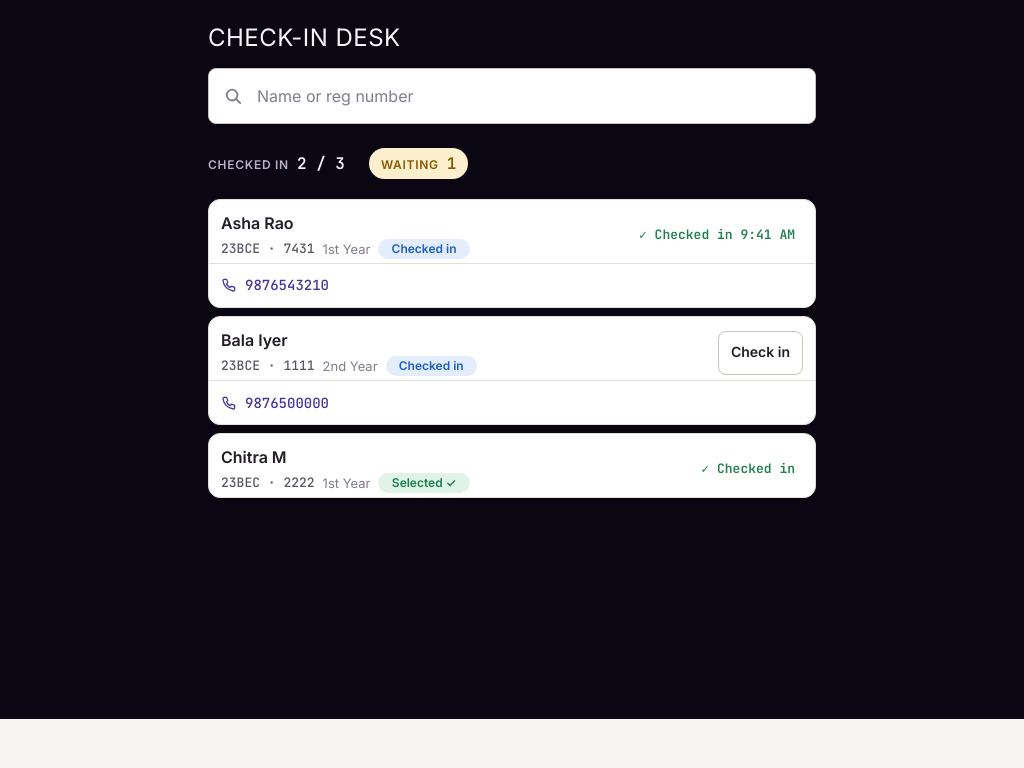
Test: Desk list + counts › search narrows by name substring or regNo prefix
Type "bala" into the search field at coordinates (512, 96), box [208, 68, 816, 124]
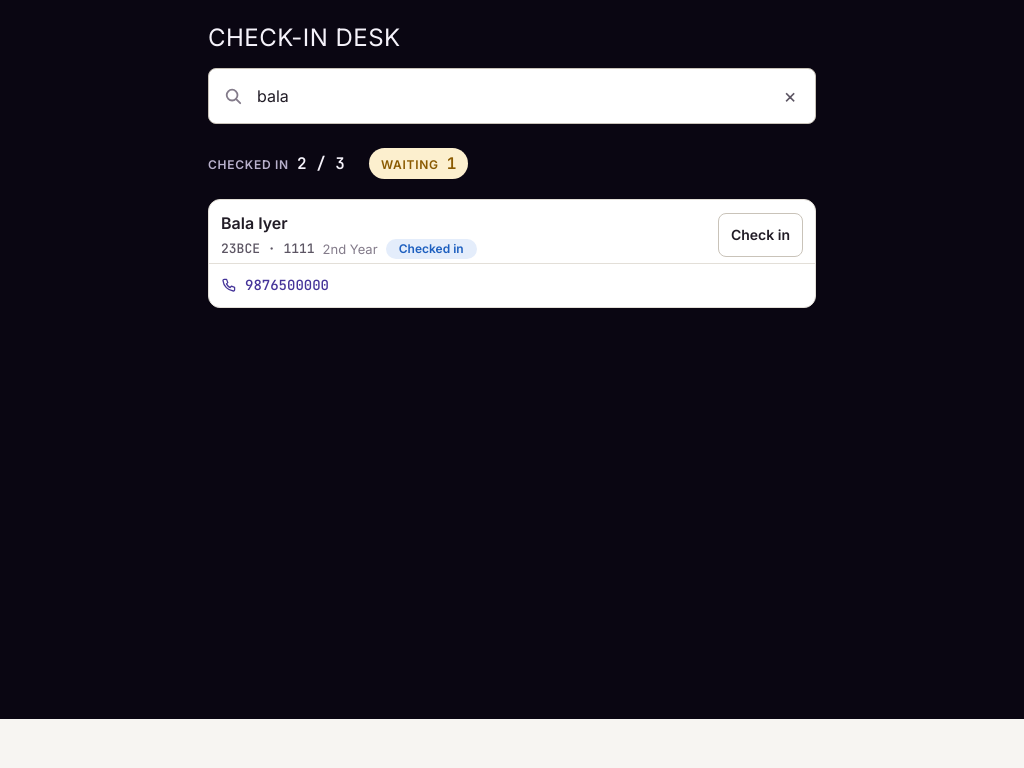
expect the text "Bala Iyer" is shown: met, box [221, 212, 288, 235]
expect the button "Asha Rao" is gone: met
Replace the text in the search field with "23BEC" at coordinates (512, 96), box [208, 68, 816, 124]
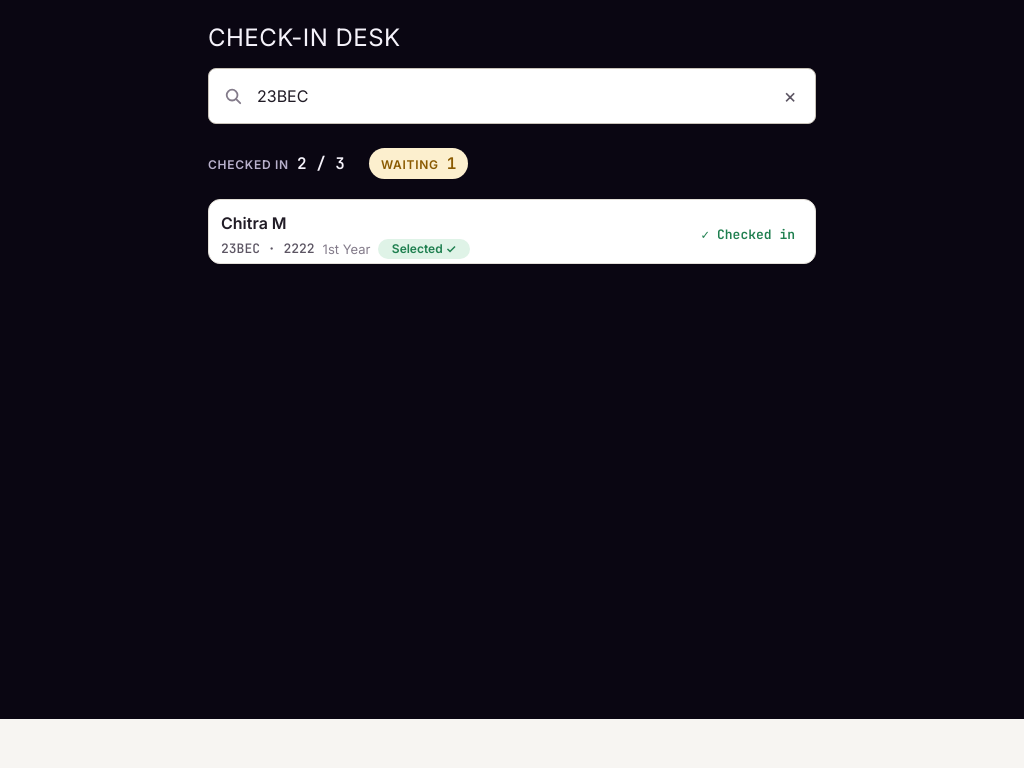
expect the text "Chitra M" is shown: met, box [221, 212, 287, 235]
expect the button "Bala Iyer" is gone: met
